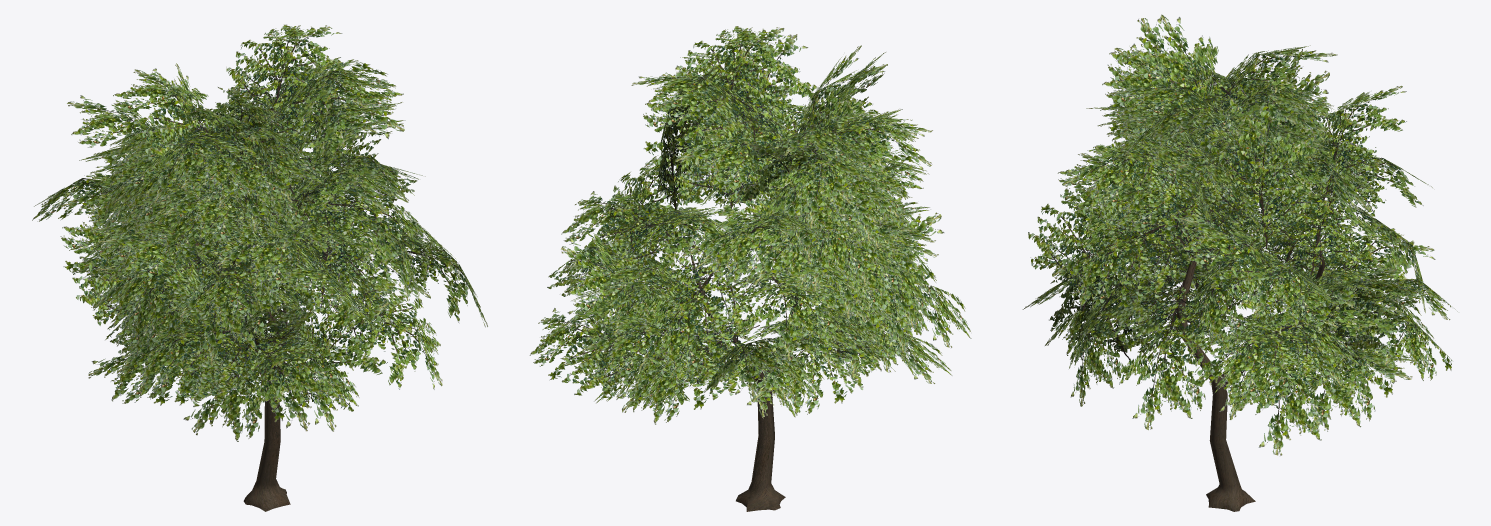
Rendered from ArvoreFolhaVerdeMED.fbx.
3 views of the same model, side by side, from view 1: azimuth 30°, elevation 25°; view 2: azimuth 150°, elevation 25°; view 3: azimuth 270°, elevation 25° (orthographic).
Visible parts, largest first — view 1: ArvoreFolhaVerdeMED; view 2: ArvoreFolhaVerdeMED; view 3: ArvoreFolhaVerdeMED.
Part boxes in pixels (left/top/right/bottom): ArvoreFolhaVerdeMED: left=32, top=24, right=487, bottom=511; ArvoreFolhaVerdeMED: left=529, top=26, right=971, bottom=511; ArvoreFolhaVerdeMED: left=1022, top=14, right=1457, bottom=511.
Size of the model in its own units: 12.9 by 14.61 by 13.7.
Materials: 2 (2 with a texture image).
